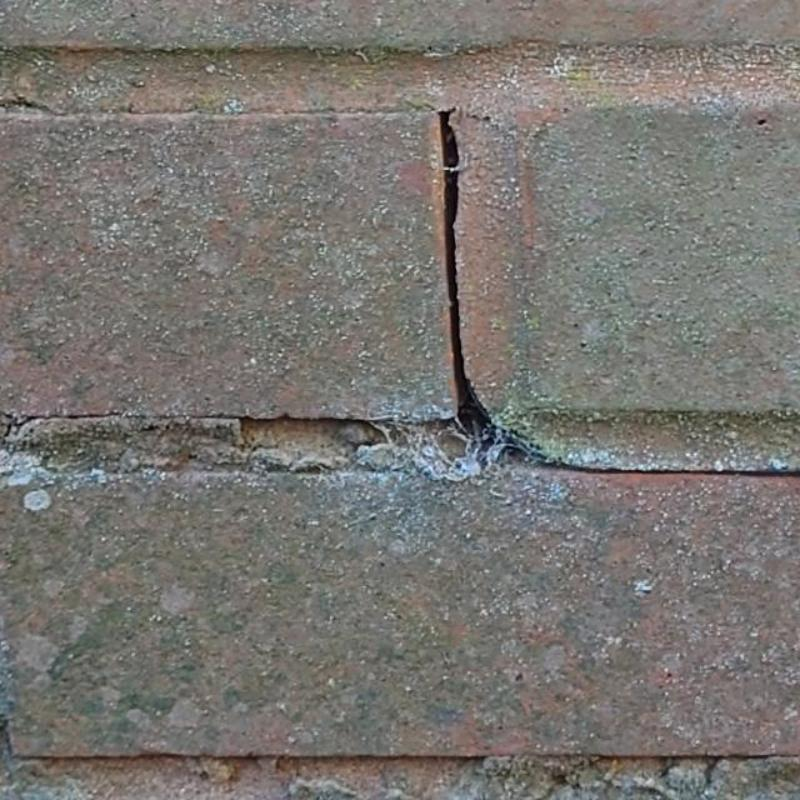pothole: (438, 111, 545, 471), (540, 460, 799, 478)
